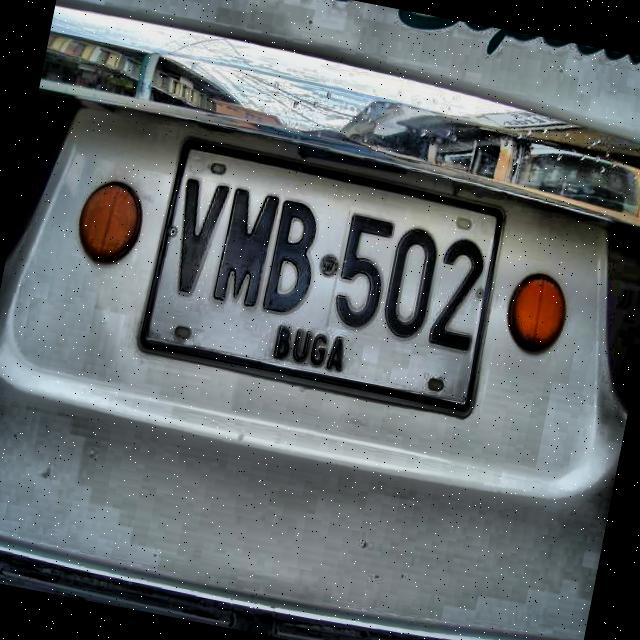0: (376, 221, 446, 346)
2: (424, 232, 494, 358)
5: (328, 212, 397, 336)
B: (260, 198, 328, 322)
M: (210, 185, 282, 314)
V: (164, 176, 232, 302)
